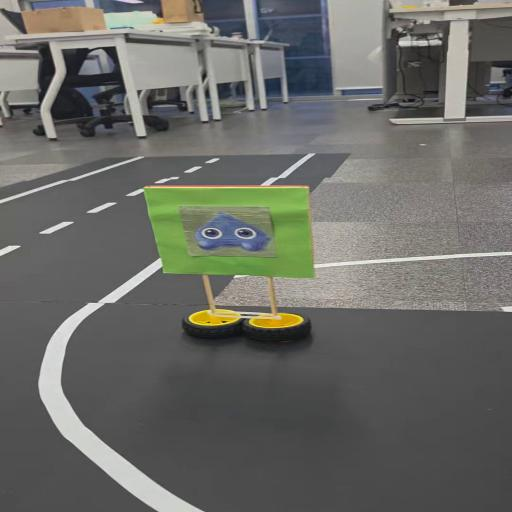Sign_B: (133, 180, 327, 350)
